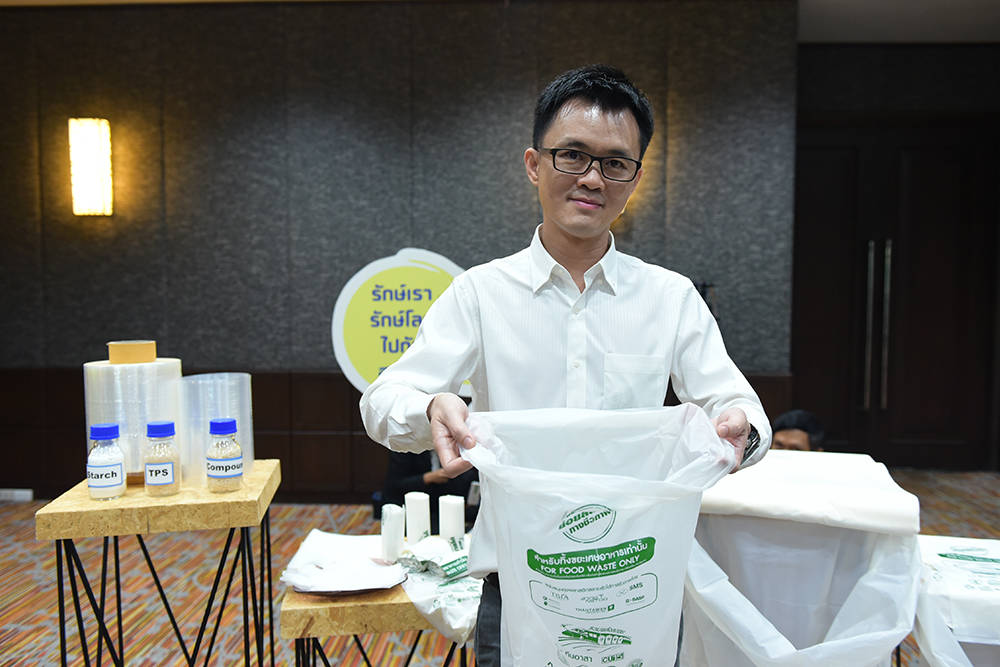plastic_bagwdw: (364, 363, 719, 667)
